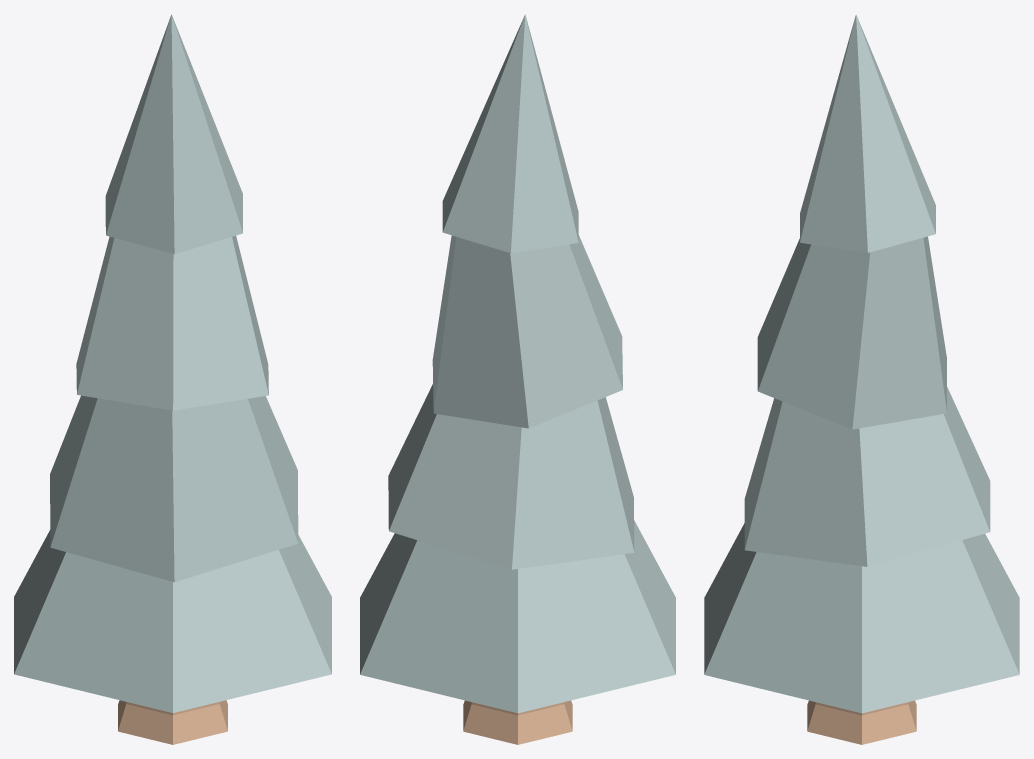
The model's file is treePineSnowed.glb.
3 views of the same model, side by side, from view 1: azimuth 30°, elevation 25°; view 2: azimuth 150°, elevation 25°; view 3: azimuth 270°, elevation 25° (orthographic).
Visible parts, largest first — view 1: treePineSnowed(Clone); view 2: treePineSnowed(Clone); view 3: treePineSnowed(Clone).
Boxes of the visible parts, bbox=[...] form: treePineSnowed(Clone): bbox=[14, 14, 331, 744]; treePineSnowed(Clone): bbox=[360, 14, 675, 744]; treePineSnowed(Clone): bbox=[704, 14, 1019, 744].
Bounding box in the file's own units: 0.7517 × 1.6 × 0.651.
